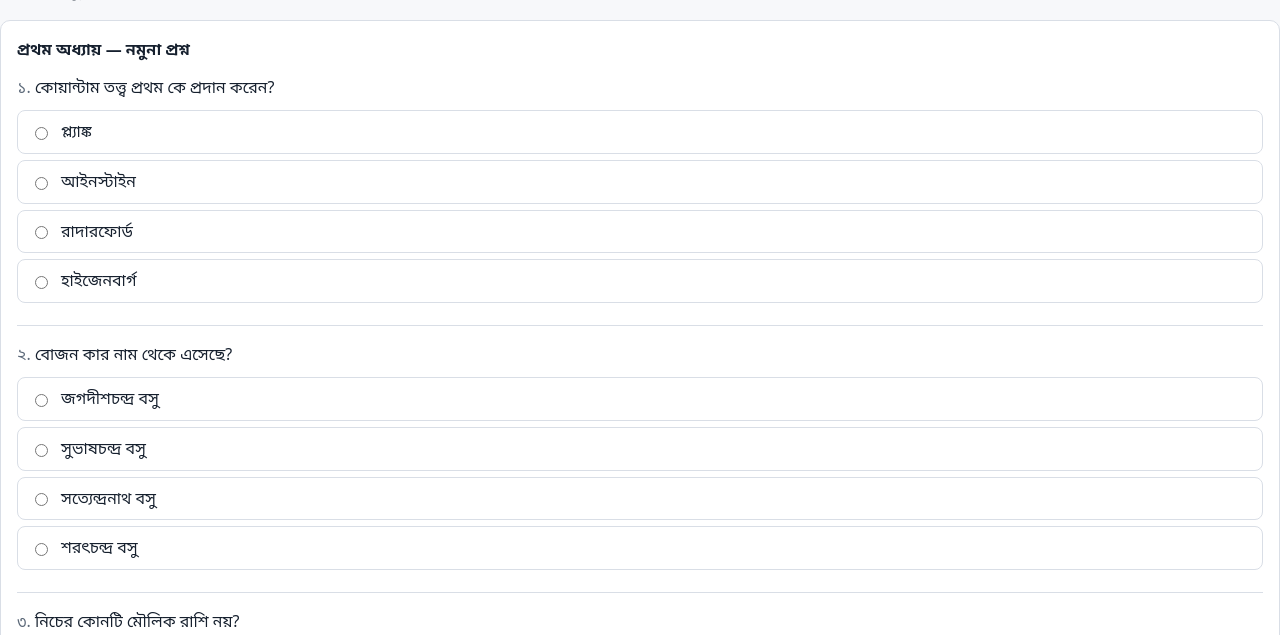
Scenario: QuizRunner › submits the chosen responses and shows the score
Click the radio button labelled "প্ল্যাঙ্ক" at (42, 134), box [35, 127, 48, 140]
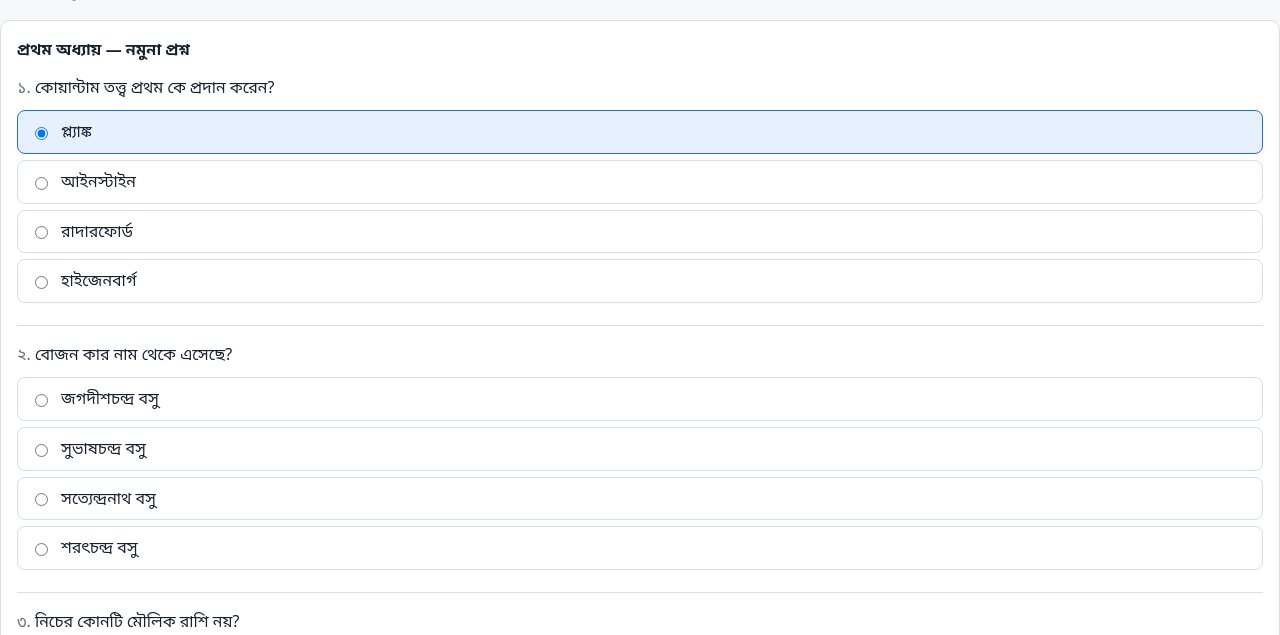
Click the radio button labelled "সত্যেন্দ্রনাথ বসু" at (42, 500), box [35, 493, 48, 506]
(page scrolled)
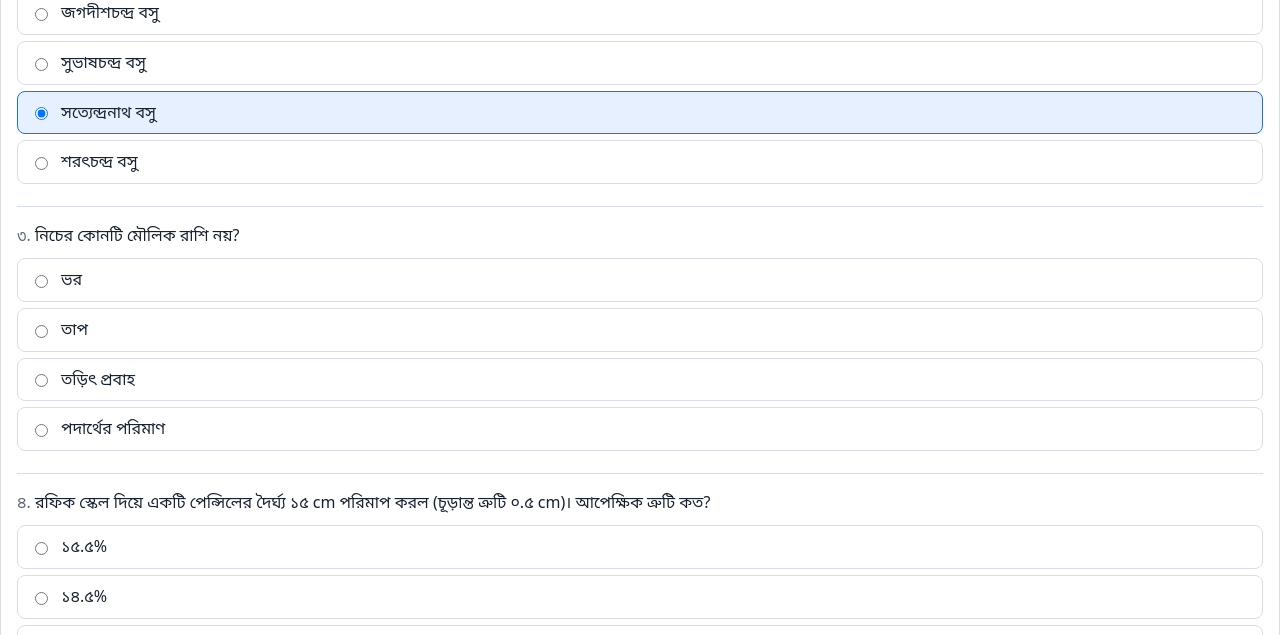
Click the radio button labelled "তাপ" at (42, 331), box [35, 325, 48, 338]
(page scrolled)
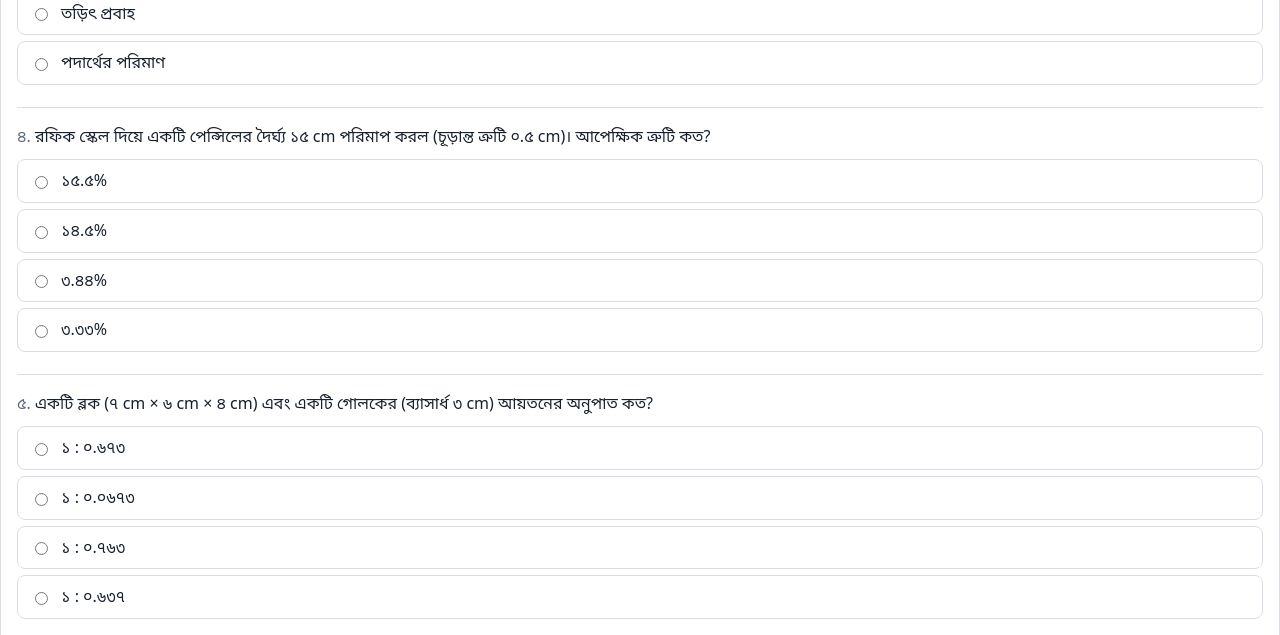
Click the radio button labelled "৩.৩৩%" at (42, 331), box [35, 325, 48, 338]
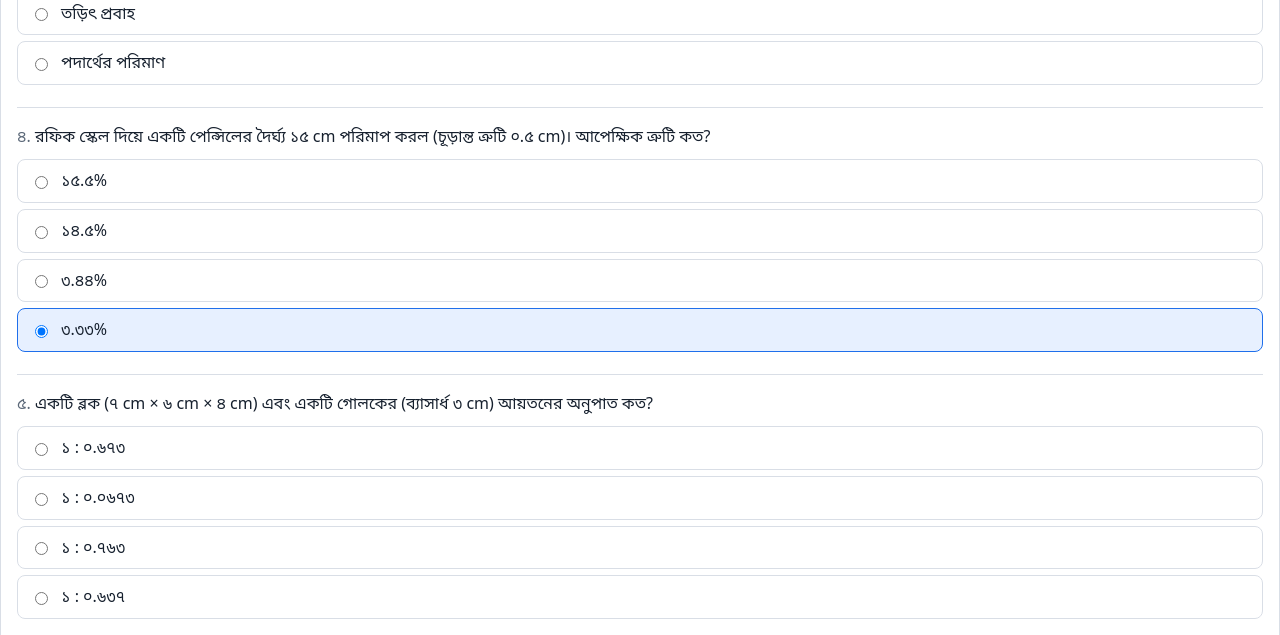
Click the radio button labelled "১ : ০.৬৭৩" at (42, 450), box [35, 443, 48, 456]
(page scrolled)
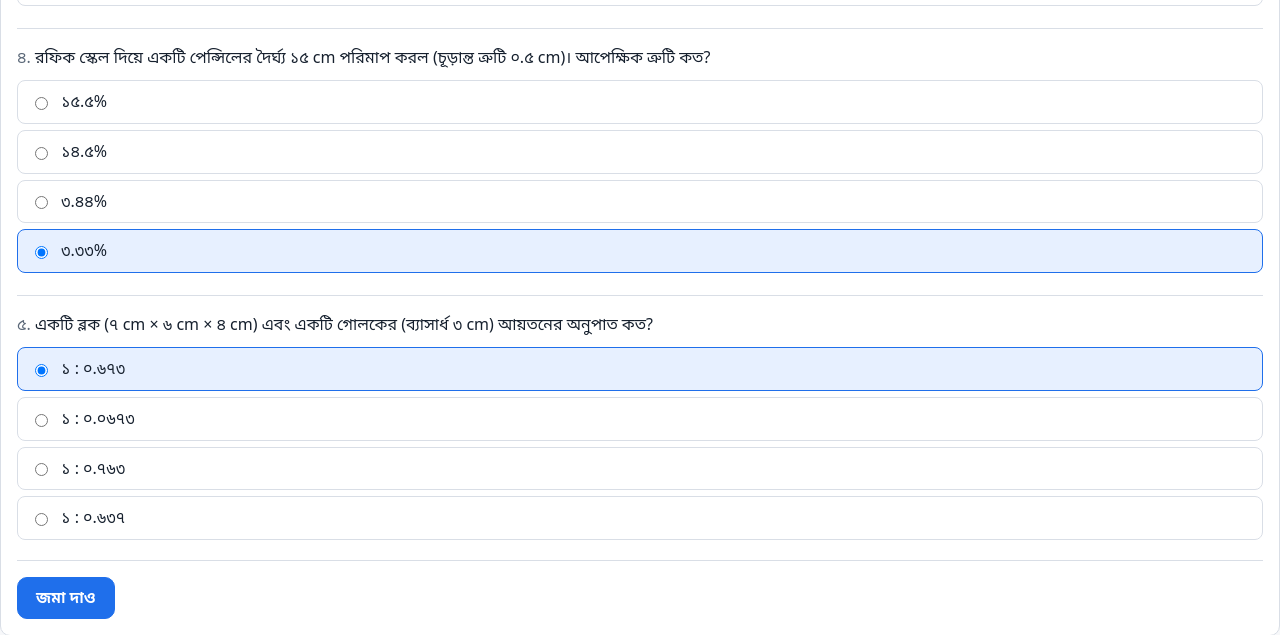
Click the button "জমা দাও" at (66, 598), box [17, 577, 115, 619]
(page scrolled)
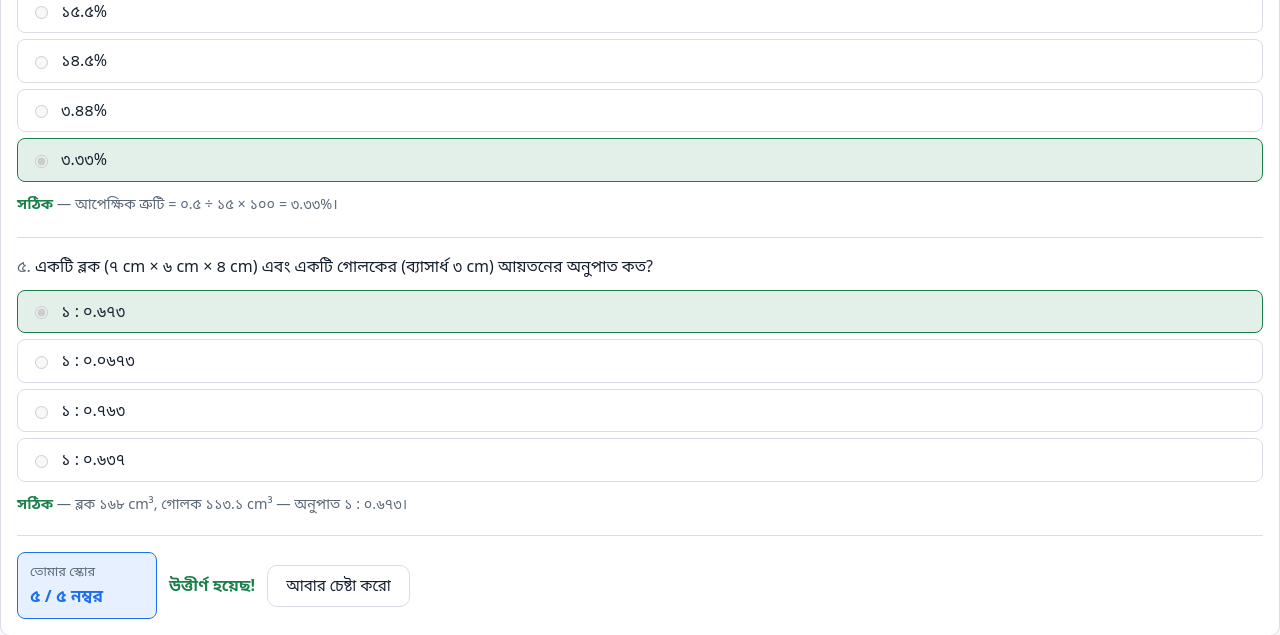
Result: the text "৫ / ৫ নম্বর" is shown at [30, 584, 103, 607]
Result: the text "উত্তীর্ণ হয়েছ!" is shown at [169, 573, 255, 598]
